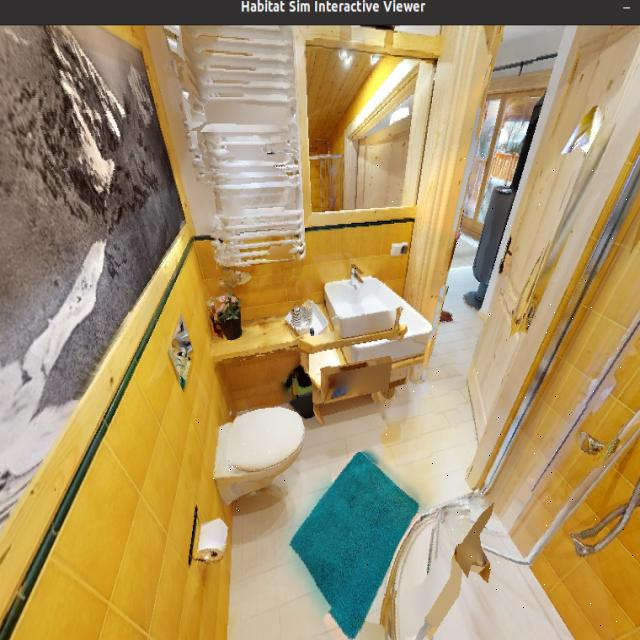shower: (363, 134, 640, 640)
sink: (315, 256, 415, 351)
toilet: (198, 391, 316, 515)
